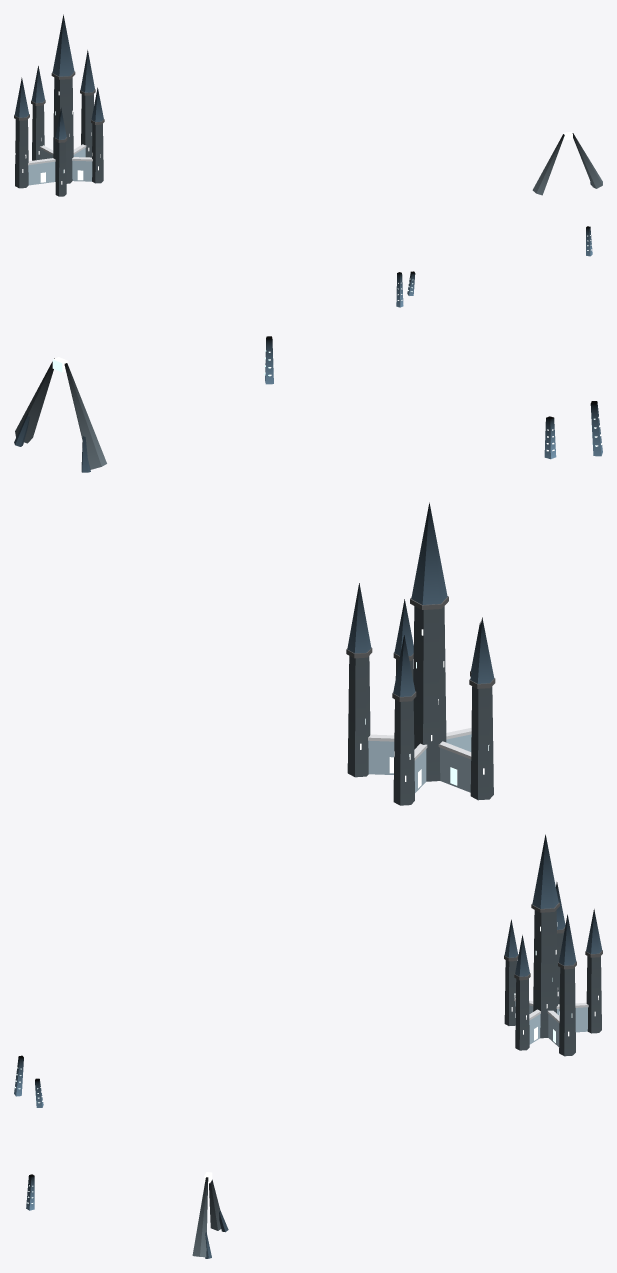
File: ice.glb
3 renders of one model, top to bottom at view 1: azimuth 30°, elevation 25°; view 2: azimuth 150°, elevation 25°; view 3: azimuth 270°, elevation 25°, orthographic. The views are drawn at different scales.
Parts seen in each view (by area): view 1: citadel, crystal_arch; view 2: citadel, crystal_arch; view 3: citadel, crystal_arch.
Boxes of the visible parts, x1,y1,x2,y2 form: citadel: (14, 14, 104, 196); crystal_arch: (532, 131, 602, 195); citadel: (346, 502, 495, 805); crystal_arch: (14, 357, 106, 472); citadel: (504, 834, 602, 1056); crystal_arch: (192, 1172, 228, 1258).
Size of the model in its own units: 199 by 71.7 by 192.
